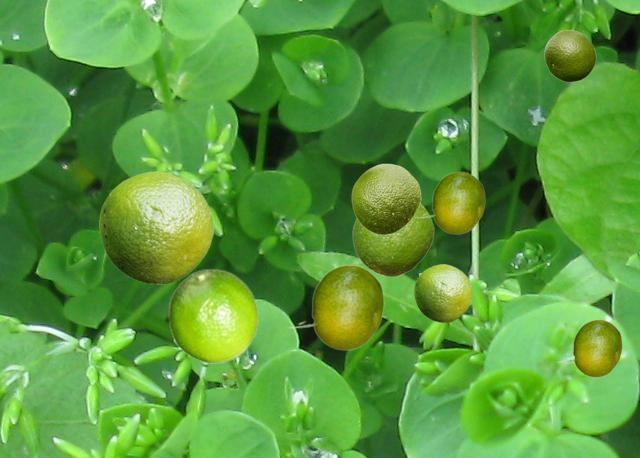calamansi: (99, 171, 212, 283), (168, 268, 258, 362), (287, 264, 383, 349), (352, 203, 433, 276), (351, 163, 420, 234), (414, 171, 484, 233), (556, 319, 621, 376), (414, 264, 471, 321), (544, 29, 595, 81)
